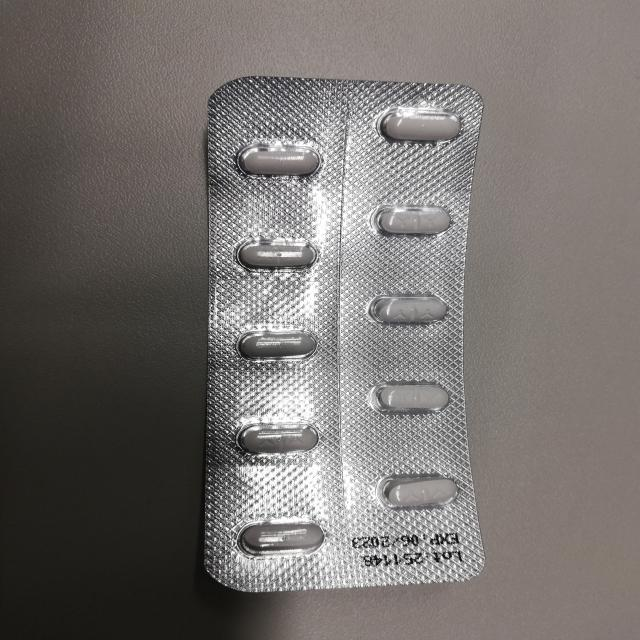Pill: (209, 516, 335, 566), (363, 97, 474, 153), (214, 133, 330, 186), (218, 230, 328, 280), (220, 321, 332, 368), (372, 463, 465, 518), (224, 412, 319, 460), (361, 200, 454, 247), (365, 372, 457, 418), (363, 289, 459, 330)
